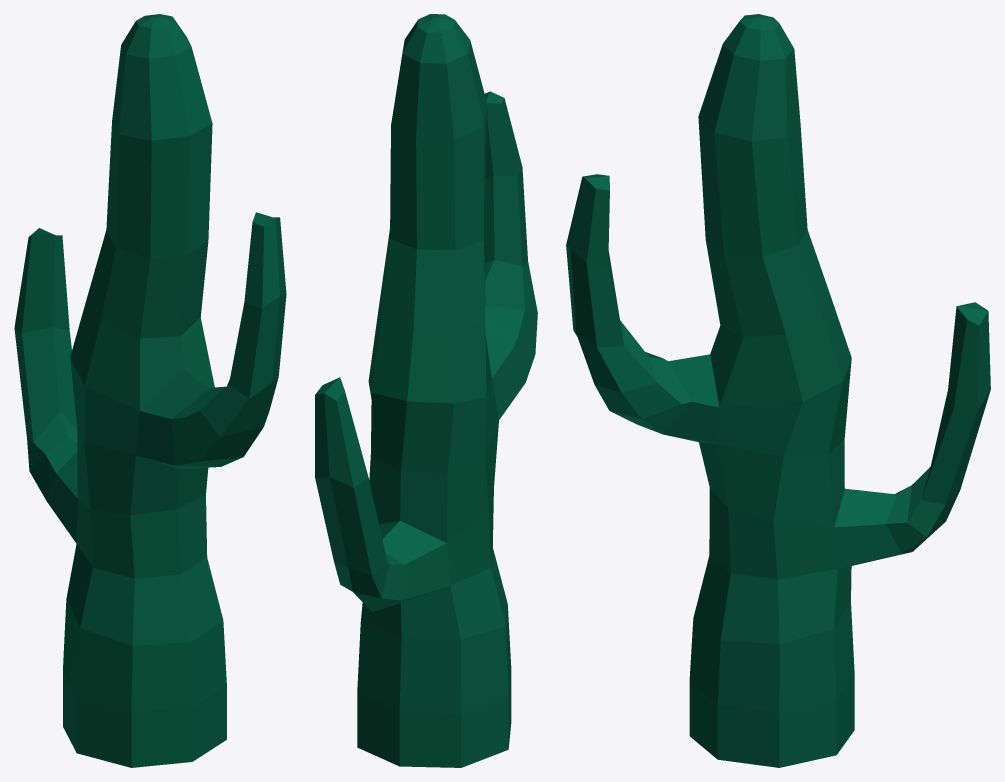
Rendered from cactus1.glb.
3 renders of one model, left to right at view 1: azimuth 30°, elevation 25°; view 2: azimuth 150°, elevation 25°; view 3: azimuth 270°, elevation 25°, orthographic.
Visible parts, largest first — view 1: Cactus; view 2: Cactus; view 3: Cactus.
Boxes of the visible parts, x1,y1,x2,y2 form: Cactus: (14, 14, 286, 767); Cactus: (315, 14, 537, 767); Cactus: (566, 14, 990, 767).
Size of the model in its own units: 0.8762 by 4.2 by 2.25.
Materials: 1 (1 with a texture image).
